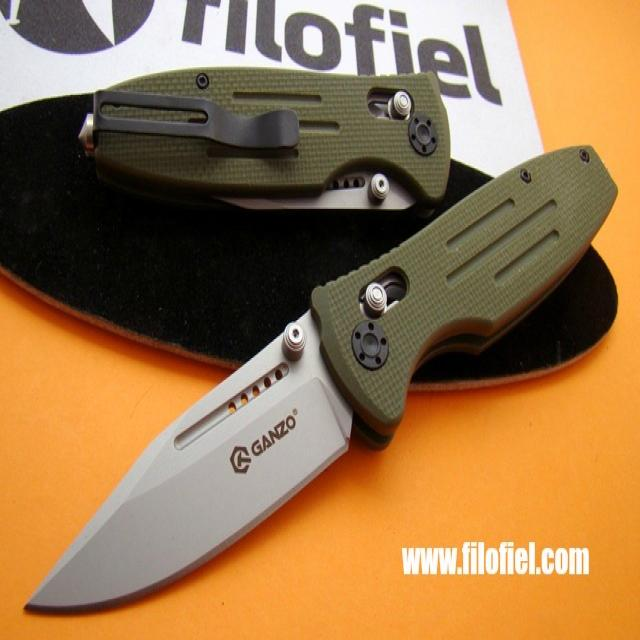knife: (6, 134, 625, 637)
